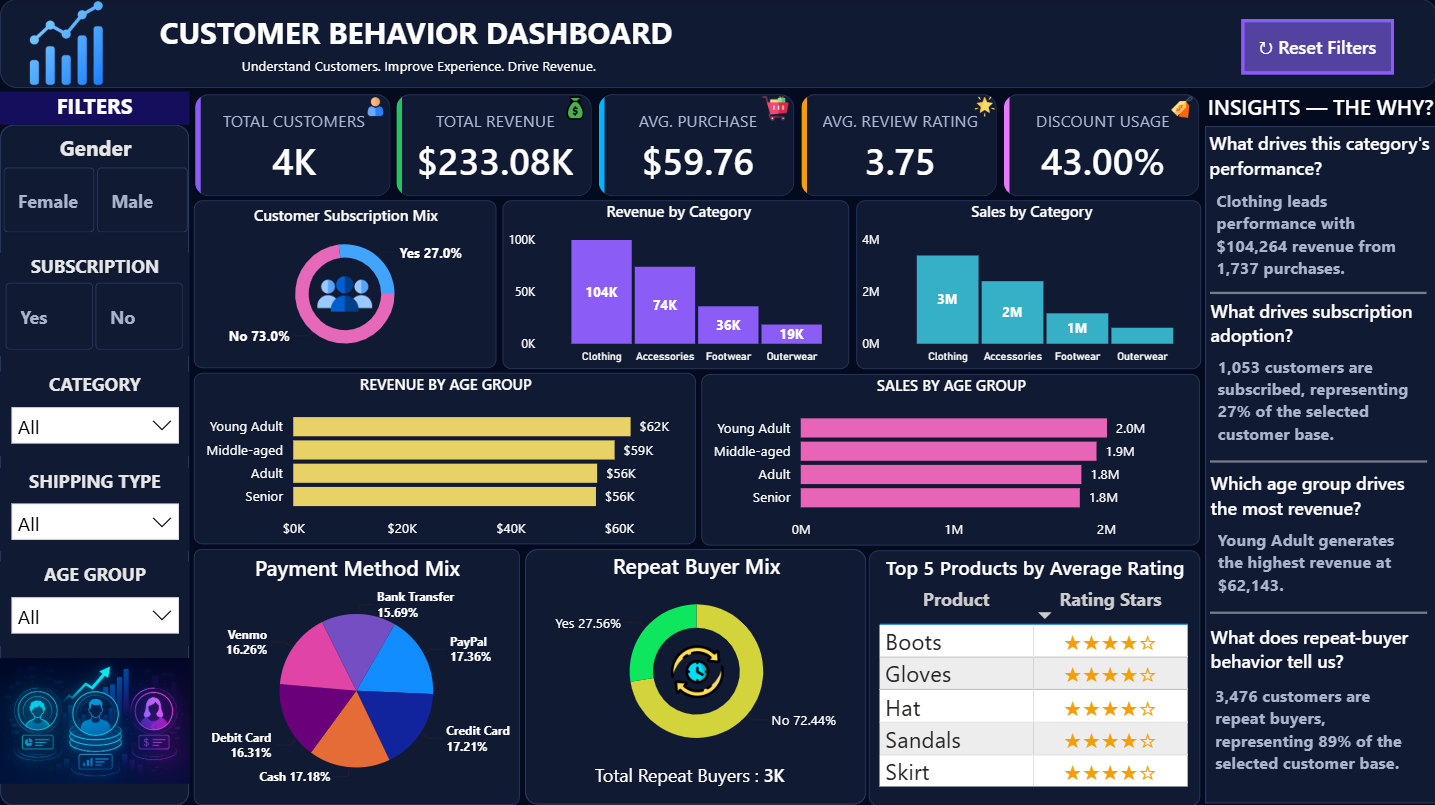

What the dashboard file says about the page in this screenshot:
{"tool":"powerbi","page":{"name":"Page 1","canvas":[1280,720],"ordinal":0},"visuals":[{"type":"shape","title":"INSIGHTS — THE WHY?","box":[1073,83.6,206,633],"z":0},{"type":"shape","box":[467,490,304,227.8],"z":1000},{"type":"textbox","box":[0,0,1280.3,79],"z":2000},{"type":"cardVisual","fields":{"Data":["public customer.Number of Custommers"]},"box":[157,68,208,125],"z":3000},{"type":"cardVisual","fields":{"Data":["public customer.Average Review rating"]},"box":[697,67.4,208,125],"z":4000},{"type":"cardVisual","fields":{"Data":["public customer.Discount Usage %"]},"box":[877,67.4,208,125],"z":5000},{"type":"cardVisual","fields":{"Data":["public customer.Average Purchase Amount"]},"box":[516,67.4,208,125],"z":6000},{"type":"cardVisual","fields":{"Data":["public customer.Total Revenue"]},"box":[336,67.4,208,125],"z":7000},{"type":"image","box":[323,84,24,25],"z":8000},{"type":"image","box":[865,84,25,25],"z":9000},{"type":"image","box":[676,84,30,28],"z":10000},{"type":"image","box":[499,84,28,27],"z":11000},{"type":"image","box":[1040,84,26,26],"z":12000},{"type":"shape","title":"FILTERS","box":[0,82.2,168.5,636.1],"z":13000},{"type":"advancedSlicerVisual","title":"SUBSCRIPTION","fields":{"Values":["public customer.subscription_status"]},"box":[0,226.4,169,91.6],"z":14000},{"type":"advancedSlicerVisual","title":"Gender","fields":{"Values":["public customer.gender"]},"box":[0,119.9,169,93],"z":15000},{"type":"slicer","title":"CATEGORY","fields":{"Values":["public customer.category"]},"box":[0,331.5,169,75.5],"z":16000},{"type":"slicer","title":"SHIPPING TYPE","fields":{"Values":["public customer.shipping_type"]},"box":[0,417.8,169,74.1],"z":17000},{"type":"slicer","title":"AGE GROUP","fields":{"Values":["public customer.age_group"]},"box":[0,501.3,169,75.5],"z":18000},{"type":"donutChart","title":"Customer Subscription Mix","fields":{"Category":["public customer.subscription_status"],"Y":["CountNonNull(public customer.customer_id)"]},"box":[173,179,269.5,149.6],"z":19000},{"type":"image","box":[279,238,55.3,48.5],"z":20000},{"type":"clusteredColumnChart","title":"Revenue by Category","fields":{"Category":["public customer.category"],"Y":["Sum(public customer.purchase_amount)"]},"box":[447,179,308.6,150],"z":21000},{"type":"clusteredColumnChart","title":"Sales by Category","fields":{"Category":["public customer.category"],"Y":["Sum(public customer.customer_id)"]},"box":[762,179,307,150],"z":22000},{"type":"clusteredBarChart","title":"REVENUE BY AGE GROUP","fields":{"Category":["public customer.age_group"],"Y":["public customer.Total Revenue"]},"box":[172.5,333,447.4,153],"z":23000},{"type":"clusteredBarChart","title":"SALES BY AGE GROUP","fields":{"Category":["public customer.age_group"],"Y":["Sum(public customer.customer_id)"]},"box":[624,334.2,444,153],"z":24000},{"type":"tableEx","title":"Top 5 Products by Average Rating","fields":{"Values":["public customer.item_purchased","public customer.Rating Display"]},"box":[774,490.5,295.1,228],"z":25000},{"type":"donutChart","title":"Repeat Buyer Mix","fields":{"Category":["public customer.subscription_status"],"Y":["public customer.Repeat Buyers"]},"box":[455.5,491.9,330.2,188.7],"z":26000},{"type":"cardVisual","fields":{"Data":["public customer.Repeat Buyers"]},"box":[501.3,606.4,235.8,113.2],"z":27000},{"type":"pieChart","title":"Payment Method Mix","fields":{"Category":["public customer.payment_method"],"Y":["CountNonNull(public customer.customer_id)"]},"box":[172,490,290,228],"z":28000},{"type":"image","box":[13.5,0,91.6,78.2],"z":29000},{"type":"image","box":[0,567.4,168.5,150.9],"z":30000},{"type":"cardVisual","fields":{"Data":["public customer.Category Insight"]},"box":[1066,137,212.9,142.9],"z":31000},{"type":"textbox","box":[1072.7,262,207.3,59.8],"z":32000},{"type":"shape","box":[1078,245,193,33.7],"z":33000},{"type":"cardVisual","fields":{"Data":["public customer.Subscription Insight"]},"box":[1067.1,284,212.9,143.3],"z":34000},{"type":"textbox","box":[1072.5,112,207.5,59.3],"z":35000},{"type":"shape","box":[1078,395,193.4,33.4],"z":36000},{"type":"textbox","box":[1072.7,415,207.3,59.8],"z":37000},{"type":"textbox","box":[1072.7,552.3,207.3,59.8],"z":38000},{"type":"cardVisual","fields":{"Data":["public customer.Age Group Insight"]},"box":[1067.1,429,212.9,143.3],"z":39000},{"type":"shape","box":[1078,530,193.4,33.4],"z":40000},{"type":"cardVisual","fields":{"Data":["public customer.Repeat Buyer Insight"]},"box":[1065,579,212.9,141],"z":41000},{"type":"actionButton","box":[1105.1,18.1,136.3,49.5],"z":42000},{"type":"image","box":[571,575,100.1,47.1],"z":42001}]}

Visuals, with their boxes in screenshot pixels (x1, y1, x2, y2), scaled from the page's 1280x720 canvas onto the 1435x805 screenshot:
"INSIGHTS — THE WHY?" shape: [1203,93,1434,801]
shape: [524,548,864,803]
textbox: [0,0,1434,88]
cardVisual - public customer.Number of Custommers: [176,76,409,216]
cardVisual - public customer.Average Review rating: [781,75,1015,215]
cardVisual - public customer.Discount Usage %: [983,75,1216,215]
cardVisual - public customer.Average Purchase Amount: [578,75,812,215]
cardVisual - public customer.Total Revenue: [377,75,610,215]
image: [362,94,389,122]
image: [970,94,998,122]
image: [758,94,791,125]
image: [559,94,591,124]
image: [1166,94,1195,123]
"FILTERS" shape: [0,92,189,803]
"SUBSCRIPTION" advancedSlicerVisual: [0,253,189,356]
"Gender" advancedSlicerVisual: [0,134,189,238]
"CATEGORY" slicer: [0,371,189,455]
"SHIPPING TYPE" slicer: [0,467,189,550]
"AGE GROUP" slicer: [0,560,189,645]
"Customer Subscription Mix" donutChart: [194,200,496,367]
image: [313,266,375,320]
"Revenue by Category" clusteredColumnChart: [501,200,847,368]
"Sales by Category" clusteredColumnChart: [854,200,1198,368]
"REVENUE BY AGE GROUP" clusteredBarChart: [193,372,695,543]
"SALES BY AGE GROUP" clusteredBarChart: [700,374,1197,545]
"Top 5 Products by Average Rating" tableEx: [868,548,1199,803]
"Repeat Buyer Mix" donutChart: [511,550,881,761]
cardVisual - public customer.Repeat Buyers: [562,678,826,804]
"Payment Method Mix" pieChart: [193,548,518,803]
image: [15,0,118,87]
image: [0,634,189,803]
cardVisual - public customer.Category Insight: [1195,153,1434,313]
textbox: [1203,293,1434,360]
shape: [1209,274,1425,312]
cardVisual - public customer.Subscription Insight: [1196,318,1434,478]
textbox: [1202,125,1434,192]
shape: [1209,442,1425,479]
textbox: [1203,464,1434,531]
textbox: [1203,618,1434,684]
cardVisual - public customer.Age Group Insight: [1196,480,1434,640]
shape: [1209,593,1425,630]
cardVisual - public customer.Repeat Buyer Insight: [1194,647,1433,804]
actionButton: [1239,20,1392,76]
image: [640,643,752,696]
